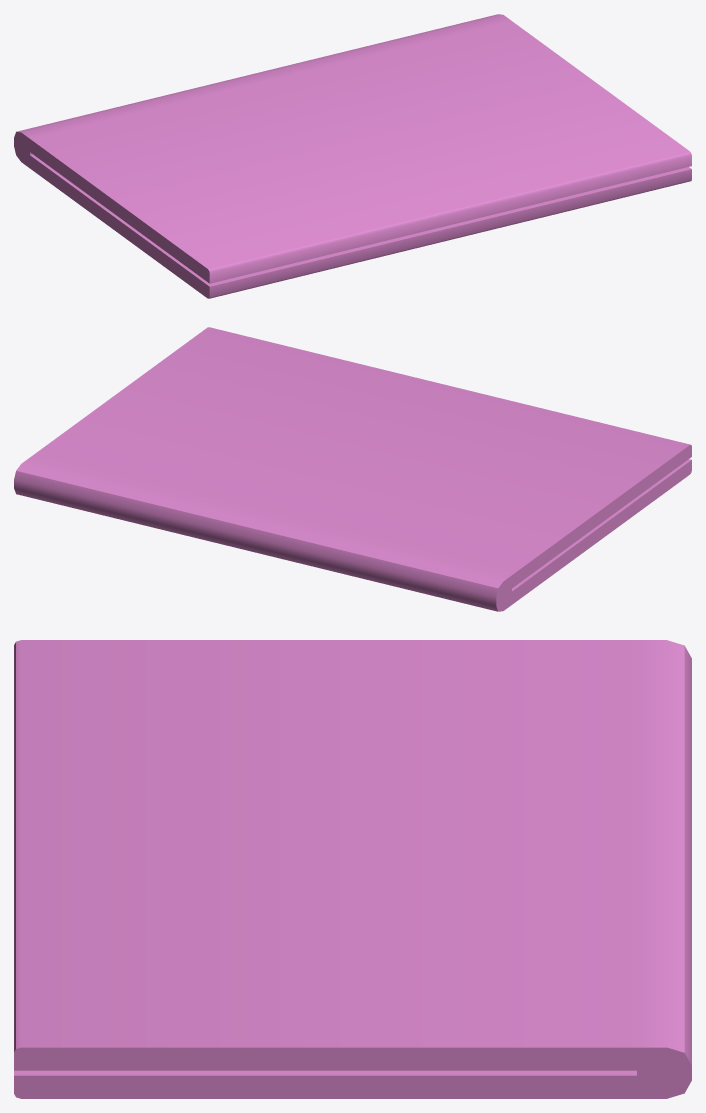
File: F_Duster_001.fbx
The picture shows the model from 3 angles, top to bottom: view 1: azimuth 30°, elevation 25°; view 2: azimuth 150°, elevation 25°; view 3: azimuth 270°, elevation 25°; orthographic projection. The views are drawn at different scales.
Visible parts, largest first — view 1: F_Duster_001; view 2: F_Duster_001; view 3: F_Duster_001.
Boxes of the visible parts, x1,y1,x2,y2 form: F_Duster_001: (14, 14, 691, 298); F_Duster_001: (14, 327, 691, 611); F_Duster_001: (14, 640, 691, 1098).
Bounding box in the file's own units: 33.06 × 1.94 × 23.25.
